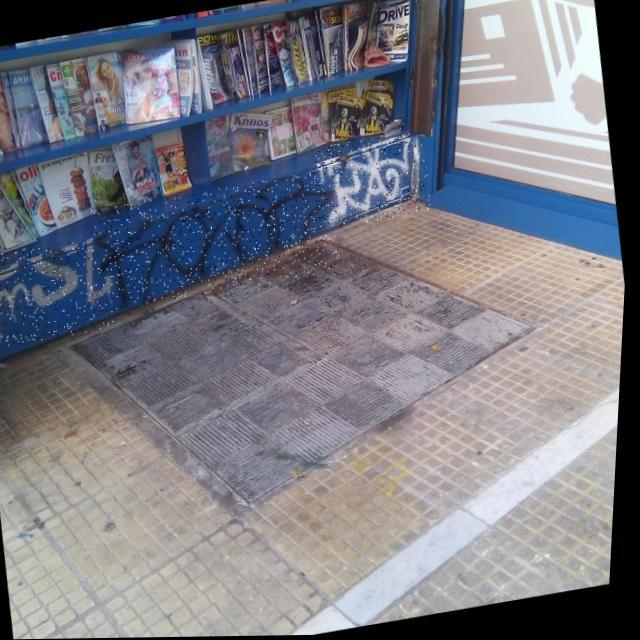-: (90, 170, 352, 312), (0, 234, 122, 350), (311, 130, 437, 230)
